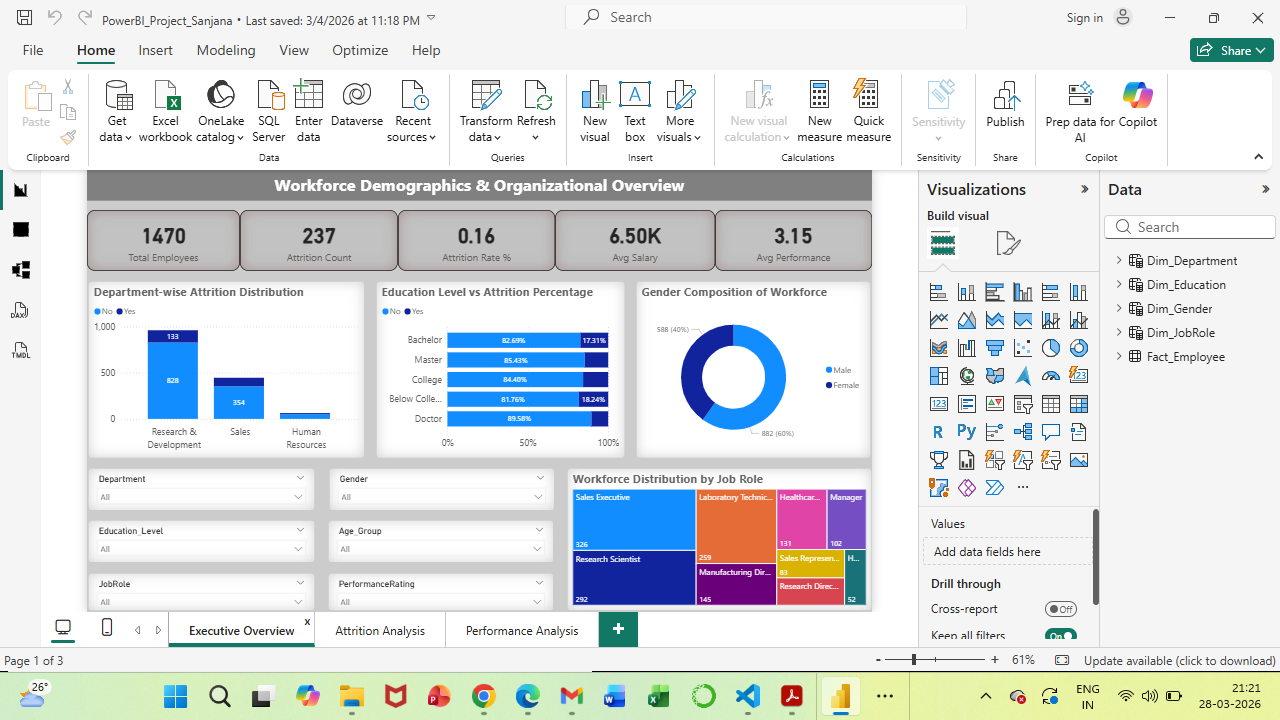

Layout of this report page (visuals, bound fields, positions):
{"tool":"powerbi","page":{"name":"Executive Overview","canvas":[1280,720],"ordinal":0},"visuals":[{"type":"card","fields":{"Values":["Dim_Department.Total Employees"]},"box":[0,65.2,249.2,99.4],"z":0},{"type":"card","fields":{"Values":["Dim_Department.Attrition Count"]},"box":[249.2,65.2,257.4,99.4],"z":1000},{"type":"card","fields":{"Values":["Dim_Department.Attrition Rate %"]},"box":[506.6,65.2,255.7,99.4],"z":2000},{"type":"card","fields":{"Values":["Dim_Department.Avg Salary"]},"box":[762.4,65.2,260.6,99.4],"z":3000},{"type":"card","fields":{"Values":["Dim_Department.Avg Performance"]},"box":[1023,65.2,255.7,99.4],"z":4000},{"type":"columnChart","title":"Department-wise Attrition Distribution","fields":{"Category":["Fact_Employee.Department"],"Series":["Fact_Employee.Attrition"],"Y":["CountNonNull(Fact_Employee.EmployeeID)"]},"box":[0,179.2,454.5,291.6],"z":5000},{"type":"treemap","title":"Workforce Distribution by Job Role","fields":{"Group":["Fact_Employee.JobRole"],"Values":["CountNonNull(Fact_Employee.EmployeeID)"]},"box":[780.3,483.8,500.1,236.2],"z":6000},{"type":"hundredPercentStackedBarChart","title":"Education Level vs Attrition Percentage","fields":{"Category":["Fact_Employee.Education_Level"],"Y":["CountNonNull(Fact_Employee.EmployeeID)"],"Series":["Fact_Employee.Attrition"]},"box":[469.1,179.2,408.9,291.6],"z":7000},{"type":"donutChart","title":"Gender Composition of Workforce","fields":{"Y":["CountNonNull(Fact_Employee.EmployeeID)"],"Category":["Fact_Employee.Gender"]},"box":[892.7,179.2,386.1,291.6],"z":8000},{"type":"slicer","fields":{"Values":["Fact_Employee.Department"]},"box":[0,483.8,373,73.3],"z":10000},{"type":"slicer","fields":{"Values":["Fact_Employee.Education_Level"]},"box":[0,568.5,373,73.3],"z":11000},{"type":"slicer","fields":{"Values":["Fact_Employee.JobRole"]},"box":[0,654.8,373,65.2],"z":12000},{"type":"slicer","fields":{"Values":["Fact_Employee.Gender"]},"box":[392.6,483.8,371.4,73.3],"z":13000},{"type":"slicer","fields":{"Values":["Fact_Employee.Age_Group"]},"box":[391,568.5,371.4,73.3],"z":14000},{"type":"slicer","fields":{"Values":["Fact_Employee.PerformanceRating"]},"box":[391,654.8,371.4,65.2],"z":14001},{"type":"textbox","box":[0,0,1278.7,50.5],"z":14002}]}

Visuals, with their boxes on the page's 1280x720 design canvas (x1, y1, x2, y2). These are canvas units, not pixel positions in the 1280x720 screenshot, which may show the page scaled, cropped or inside an application window:
card - Dim_Department.Total Employees: detection(0, 65, 249, 165)
card - Dim_Department.Attrition Count: detection(249, 65, 507, 165)
card - Dim_Department.Attrition Rate %: detection(507, 65, 762, 165)
card - Dim_Department.Avg Salary: detection(762, 65, 1023, 165)
card - Dim_Department.Avg Performance: detection(1023, 65, 1279, 165)
"Department-wise Attrition Distribution" columnChart: detection(0, 179, 454, 471)
"Workforce Distribution by Job Role" treemap: detection(780, 484, 1280, 720)
"Education Level vs Attrition Percentage" hundredPercentStackedBarChart: detection(469, 179, 878, 471)
"Gender Composition of Workforce" donutChart: detection(893, 179, 1279, 471)
slicer - Fact_Employee.Department: detection(0, 484, 373, 557)
slicer - Fact_Employee.Education_Level: detection(0, 568, 373, 642)
slicer - Fact_Employee.JobRole: detection(0, 655, 373, 720)
slicer - Fact_Employee.Gender: detection(393, 484, 764, 557)
slicer - Fact_Employee.Age_Group: detection(391, 568, 762, 642)
slicer - Fact_Employee.PerformanceRating: detection(391, 655, 762, 720)
textbox: detection(0, 0, 1279, 50)
